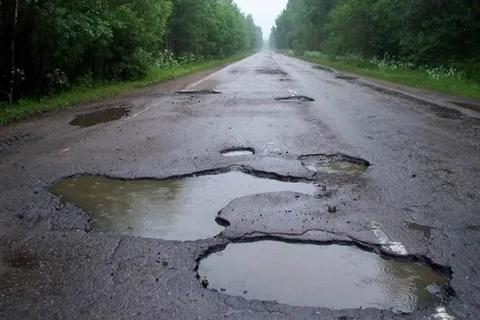pothole: (49, 164, 331, 242), (195, 234, 455, 314), (67, 102, 128, 127), (301, 154, 369, 175), (219, 147, 257, 156), (181, 89, 222, 95), (276, 96, 313, 102)
